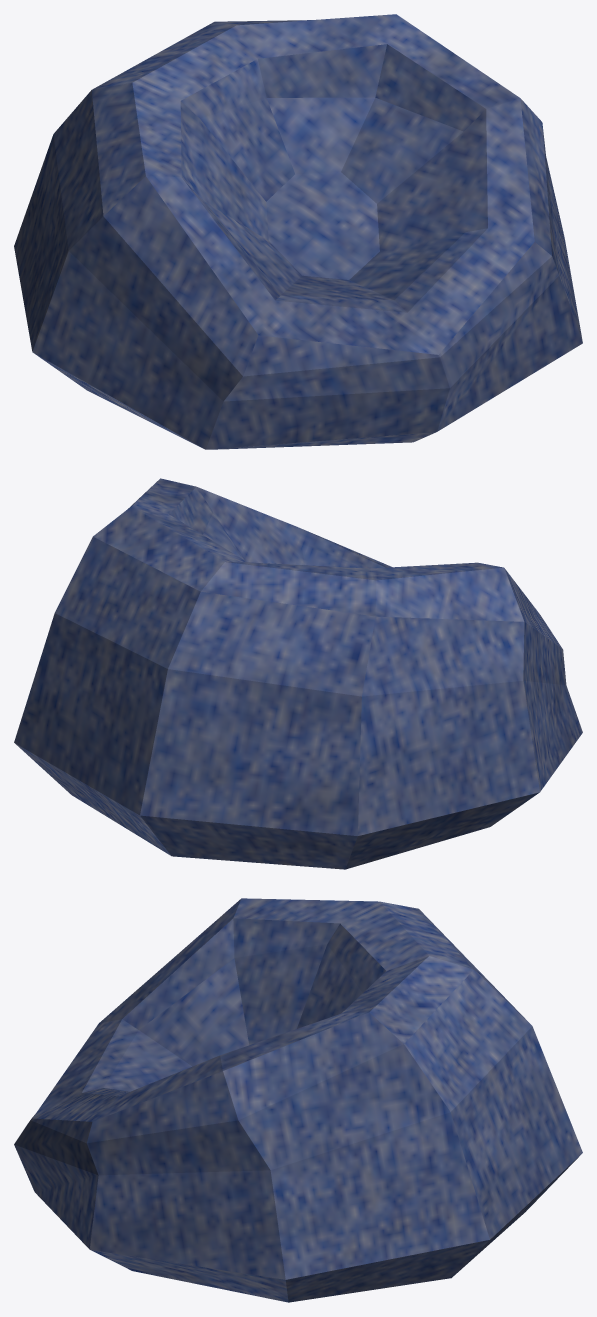
Rendered from beanbag_blue.obj.
The picture shows the model from 3 angles, top to bottom: view 1: azimuth 30°, elevation 25°; view 2: azimuth 150°, elevation 25°; view 3: azimuth 270°, elevation 25°; orthographic projection. The views are drawn at different scales.
Visible parts, largest first — view 1: beanbag_blue; view 2: beanbag_blue; view 3: beanbag_blue.
Part boxes in pixels (x1,y1,x2,y2): beanbag_blue: (14,14,582,449); beanbag_blue: (14,478,582,869); beanbag_blue: (14,898,582,1302).
Bounding box in the file's own units: 1.69 × 0.8727 × 1.69.
